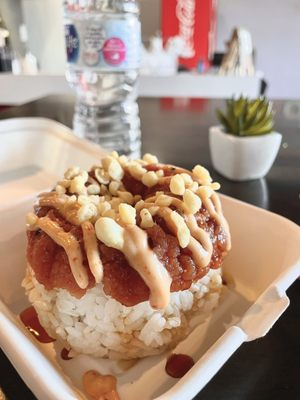sandwich: (136, 253, 300, 400)
